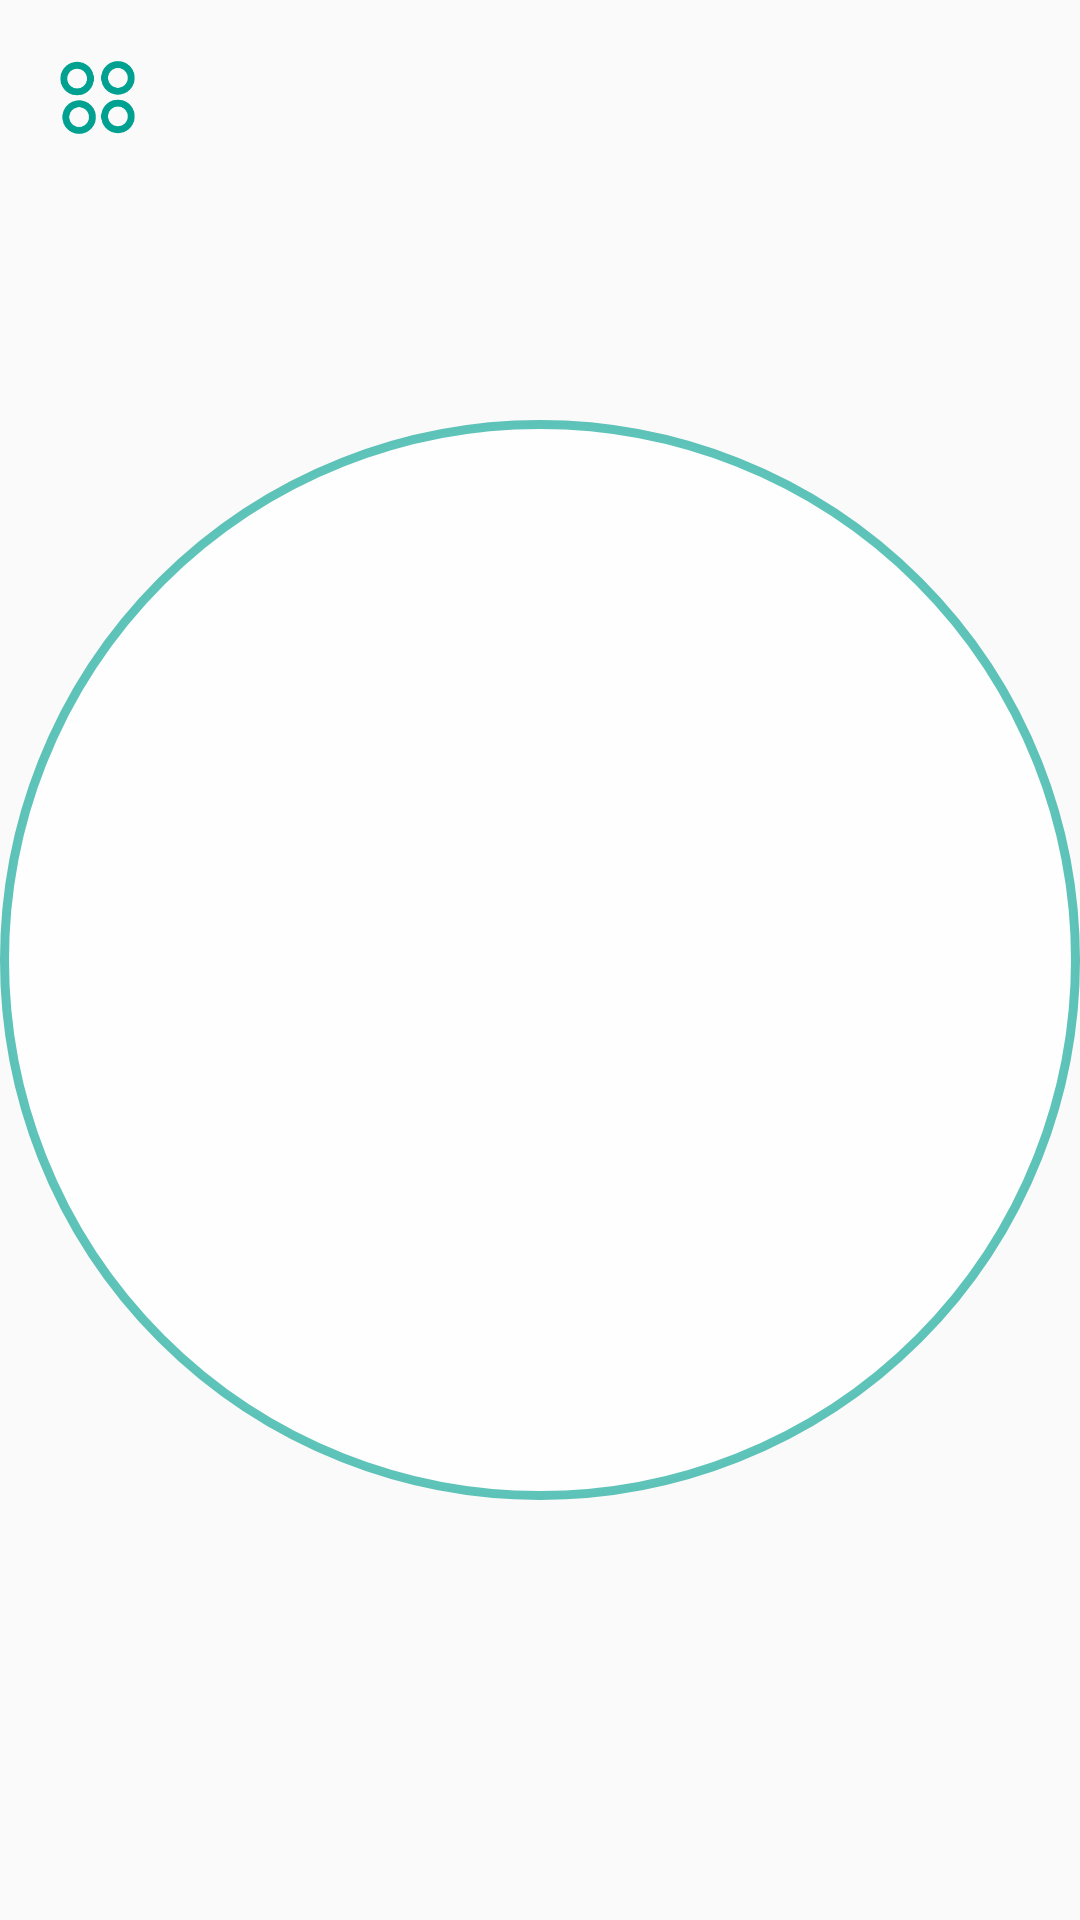

Icons on this 1080w x 1920h Android screen, each with the point to tap as (x,y):
quickmenu: (97,97)
